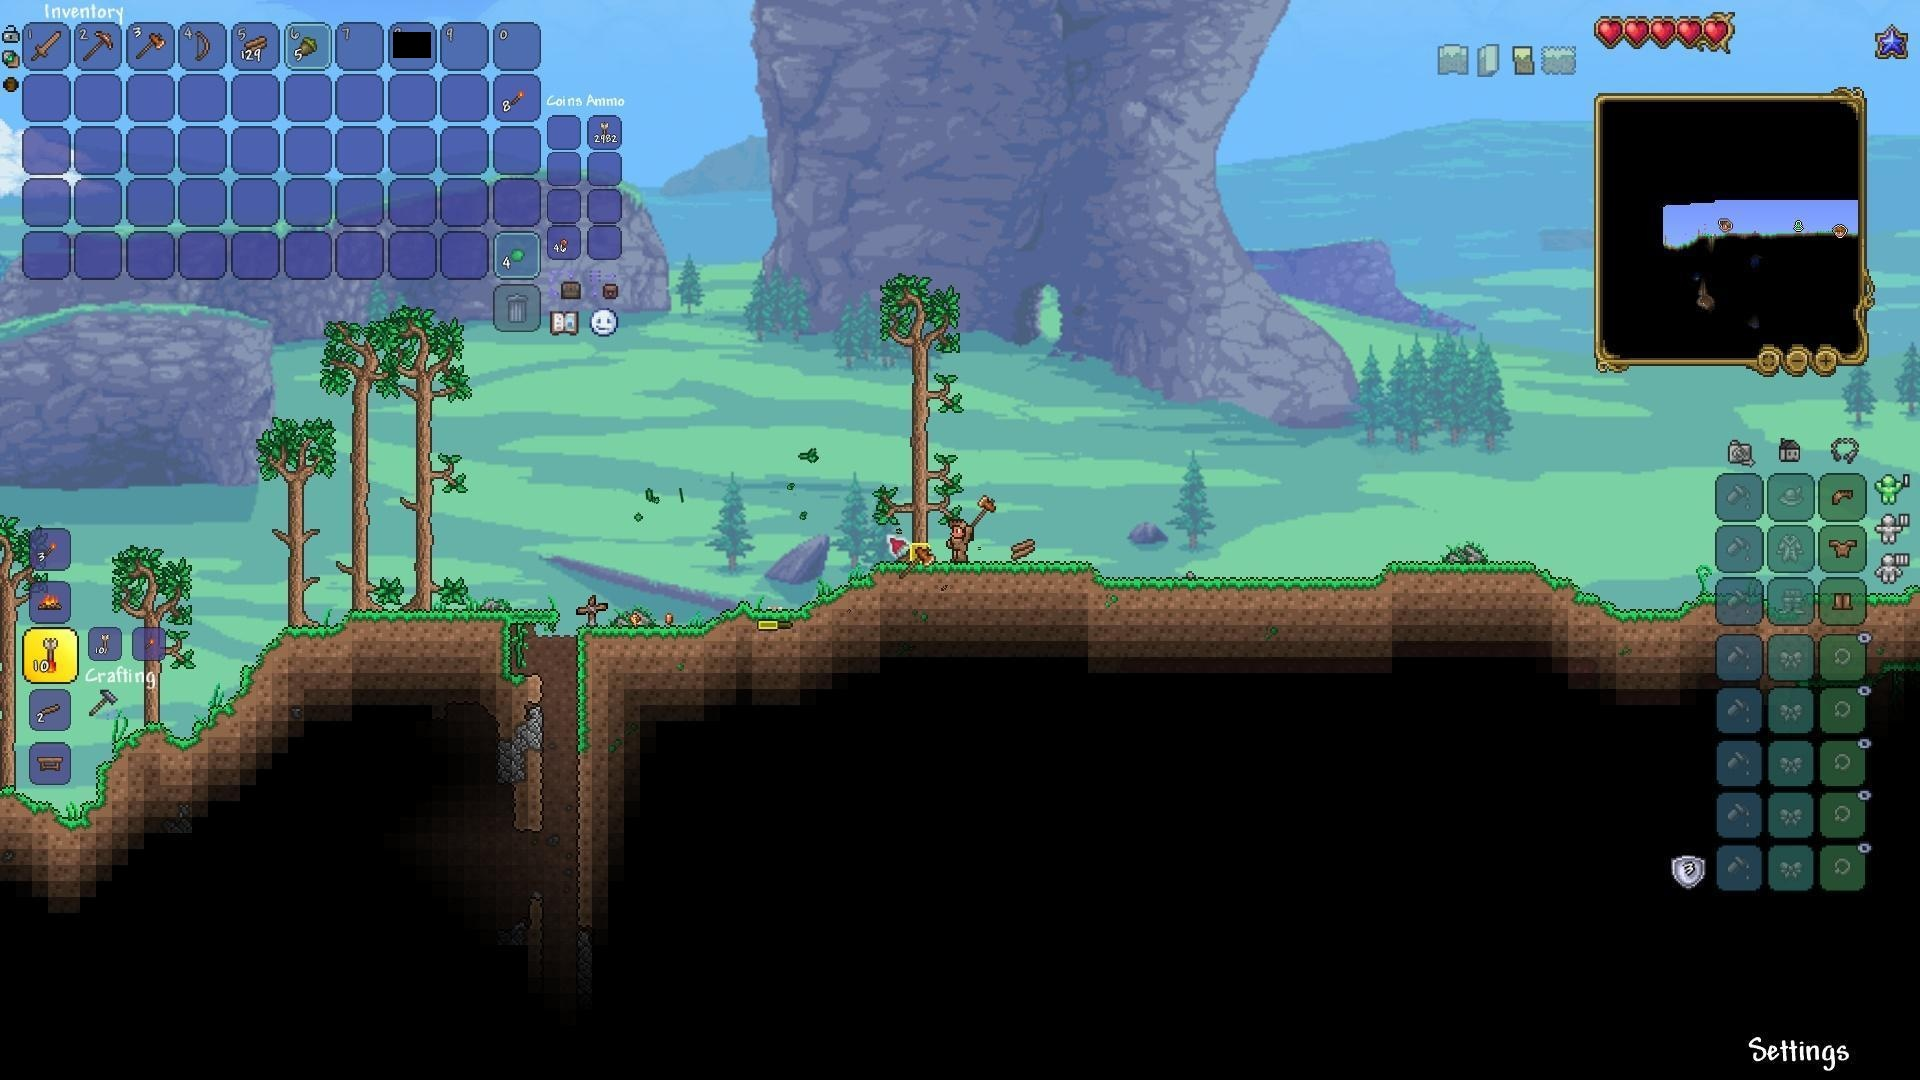breastplate: (1829, 535, 1859, 558)
helmet: (1828, 484, 1857, 510)
legs: (1830, 587, 1855, 616)
wood: (239, 29, 270, 59), (1010, 534, 1042, 564)
workbench: (32, 749, 69, 774)
